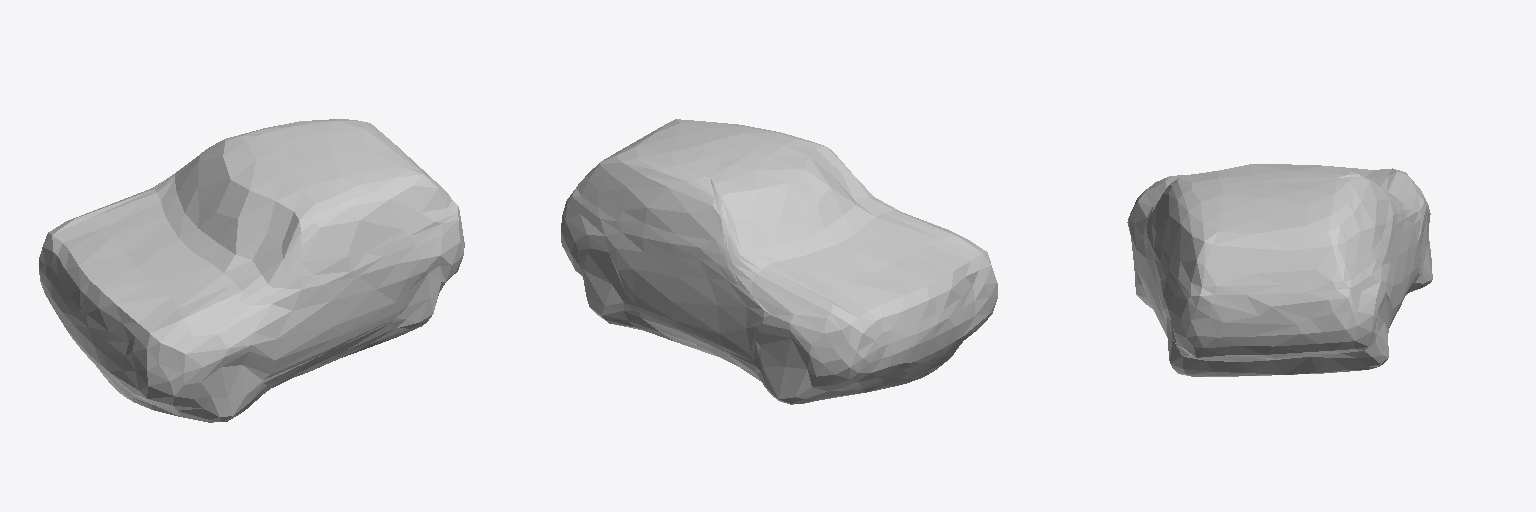
Rendered from video0_5.obj.
3 renders of one model, left to right at view 1: azimuth 30°, elevation 25°; view 2: azimuth 150°, elevation 25°; view 3: azimuth 270°, elevation 25°, orthographic.
Size of the model in its own units: 1 by 0.5128 by 0.7557.